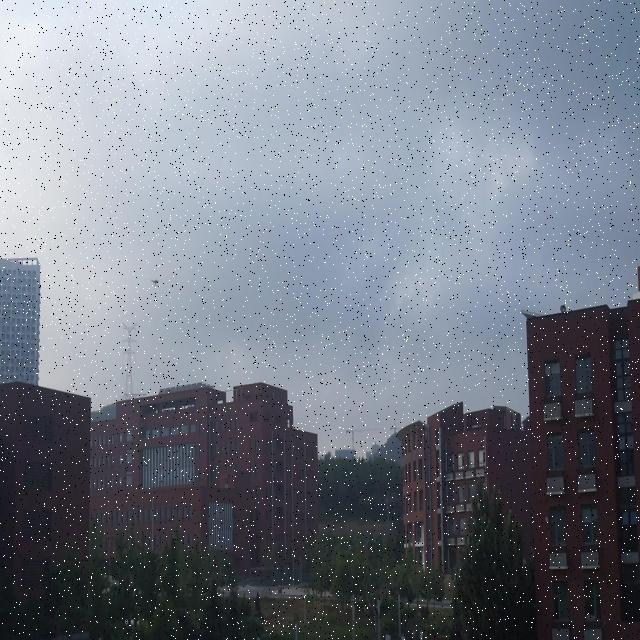UAV: (150, 278, 159, 287)
